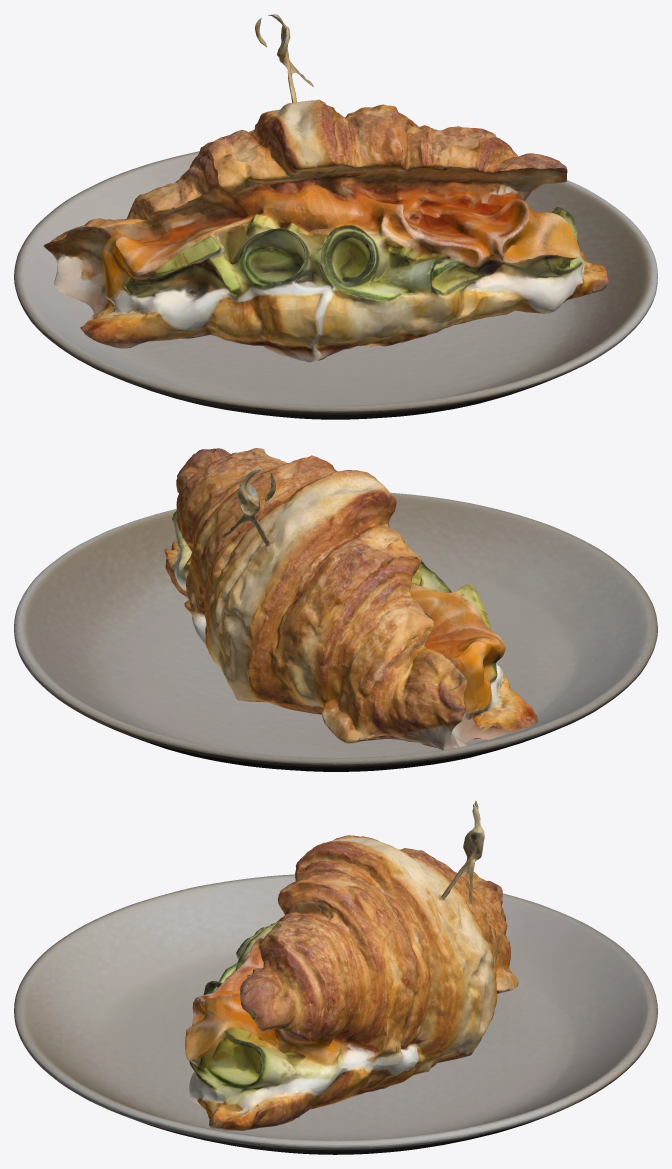
Rendered from set.croissantwithsalmon001.glb.
3 renders of one model, top to bottom at view 1: azimuth 30°, elevation 25°; view 2: azimuth 150°, elevation 25°; view 3: azimuth 270°, elevation 25°, orthographic.
Parts seen in each view (by area): view 1: /Root/Scenes/Scene/Object_37/Object_38/Submesh_0, /Root/Scenes/Scene/Object_37/Object_39/Object_40/Submesh_0; view 2: /Root/Scenes/Scene/Object_37/Object_39/Object_40/Submesh_0, /Root/Scenes/Scene/Object_37/Object_38/Submesh_0; view 3: /Root/Scenes/Scene/Object_37/Object_39/Object_40/Submesh_0, /Root/Scenes/Scene/Object_37/Object_38/Submesh_0.
Part boxes in pixels (x1,y1,x2,y2): /Root/Scenes/Scene/Object_37/Object_38/Submesh_0: [43, 14, 608, 362]; /Root/Scenes/Scene/Object_37/Object_39/Object_40/Submesh_0: [14, 151, 657, 419]; /Root/Scenes/Scene/Object_37/Object_39/Object_40/Submesh_0: [14, 492, 657, 771]; /Root/Scenes/Scene/Object_37/Object_38/Submesh_0: [164, 448, 537, 750]; /Root/Scenes/Scene/Object_37/Object_39/Object_40/Submesh_0: [14, 874, 657, 1154]; /Root/Scenes/Scene/Object_37/Object_38/Submesh_0: [185, 800, 518, 1130].
Bounding box in the file's own units: 0.2897 × 0.127 × 0.2897.
Materials: 2 (2 with a texture image).
